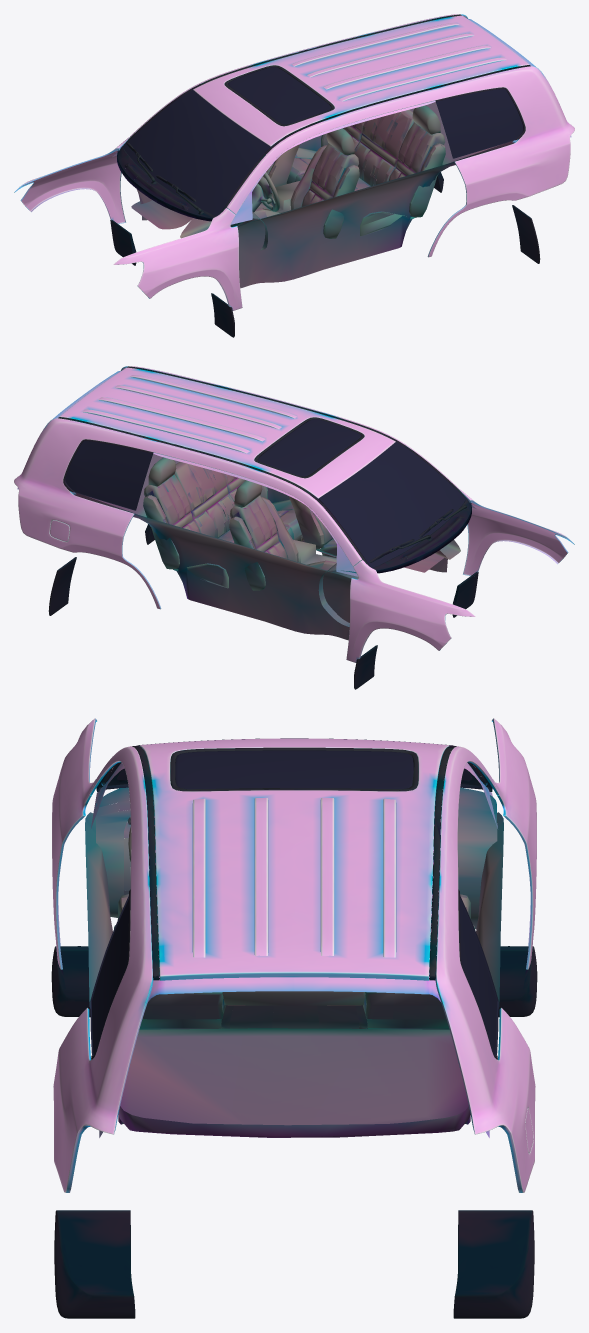
3 views of the same model, one above another, from view 1: azimuth 30°, elevation 25°; view 2: azimuth 150°, elevation 25°; view 3: azimuth 270°, elevation 25° (orthographic). The views are drawn at different scales.
Parts seen in each view (by area): view 1: carpaint_6, Original seats and cabin, windowglass_39, black_12, carpaint_7, darkglass_20, black_11; view 2: carpaint_6, Original seats and cabin, windowglass_39, carpaint_7, black_12, darkglass_20, black_11; view 3: carpaint_6, Original seats and cabin, black_11, carpaint_7, darkglass_20, black_12, windowglass_39.
Part boxes in pixels (bbox=[...]): carpaint_6: bbox=[14, 14, 574, 310]; Original seats and cabin: bbox=[131, 102, 514, 288]; windowglass_39: bbox=[122, 89, 523, 215]; black_12: bbox=[117, 14, 530, 221]; carpaint_7: bbox=[112, 19, 571, 224]; darkglass_20: bbox=[228, 67, 331, 124]; black_11: bbox=[110, 87, 540, 337]; carpaint_6: bbox=[14, 366, 574, 662]; Original seats and cabin: bbox=[74, 454, 460, 640]; windowglass_39: bbox=[65, 441, 466, 567]; carpaint_7: bbox=[17, 371, 476, 576]; black_12: bbox=[58, 366, 471, 573]; darkglass_20: bbox=[257, 419, 360, 476]; black_11: bbox=[48, 439, 478, 689]; carpaint_6: bbox=[52, 718, 536, 1192]; Original seats and cabin: bbox=[85, 787, 503, 1137]; black_11: bbox=[51, 770, 537, 1318]; carpaint_7: bbox=[91, 751, 533, 1153]; darkglass_20: bbox=[175, 750, 413, 789]; black_12: bbox=[96, 745, 492, 980]; windowglass_39: bbox=[90, 738, 498, 1055].
Size of the model in its own units: 4.43 by 1.66 by 1.99.
